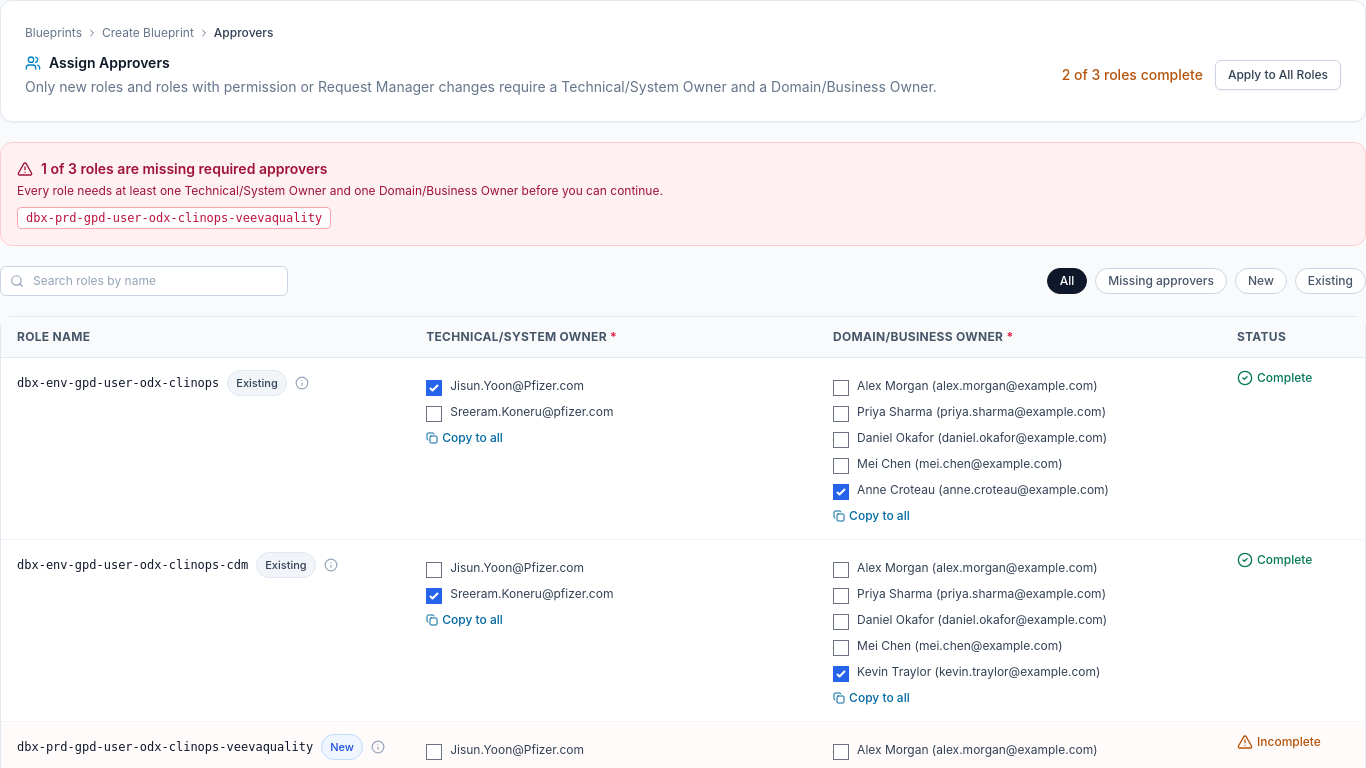
it: BlueprintApproversForm › excludes unchanged roles from prefill, validation, counters and bulk copies
The image size is (1366, 768).
Expected: the text "2 of 3 roles complete" is shown, [1062,65,1203,85]
Click the button named "Copy Technical/System Owners of dbx-env-gpd-user-odx-clinops to all roles": [464, 438] box [426,430,503,446]
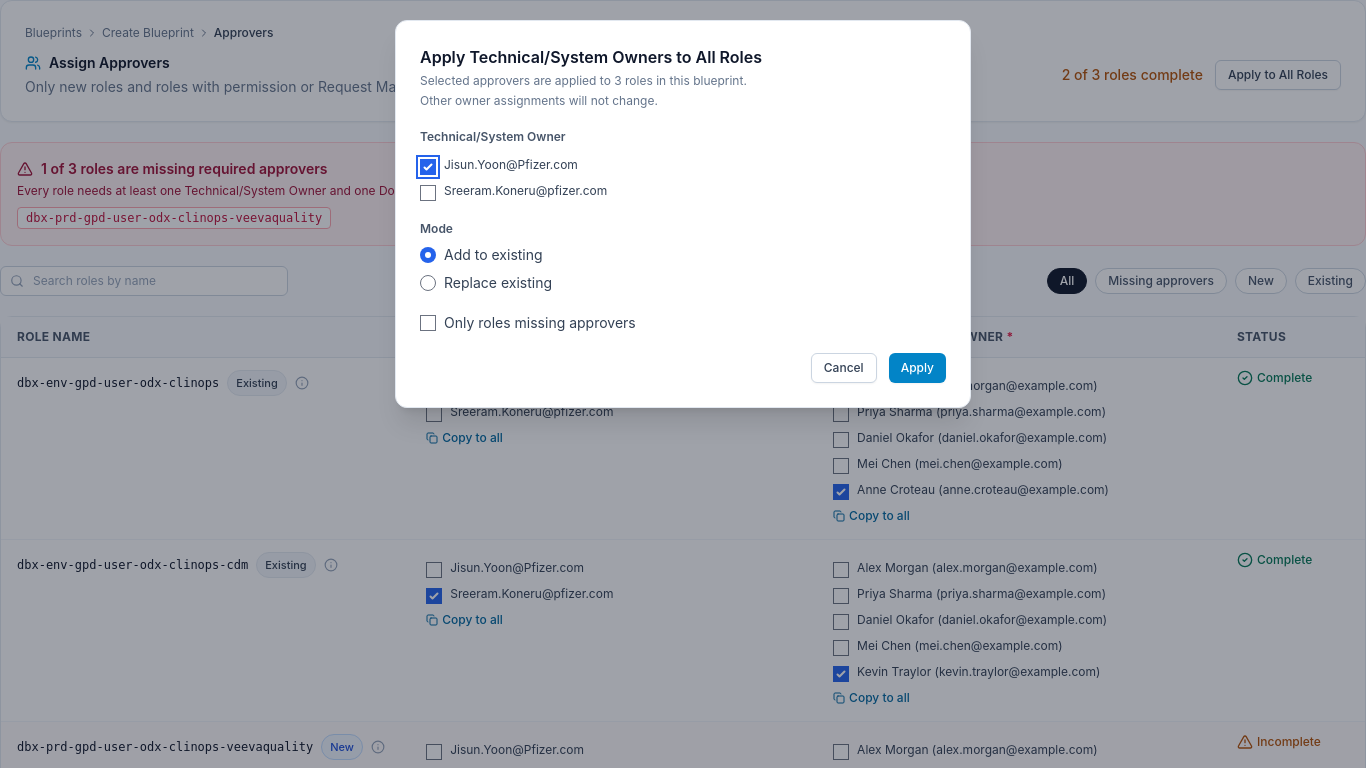
Click the button "Apply": [917, 368] box [889,353,946,383]
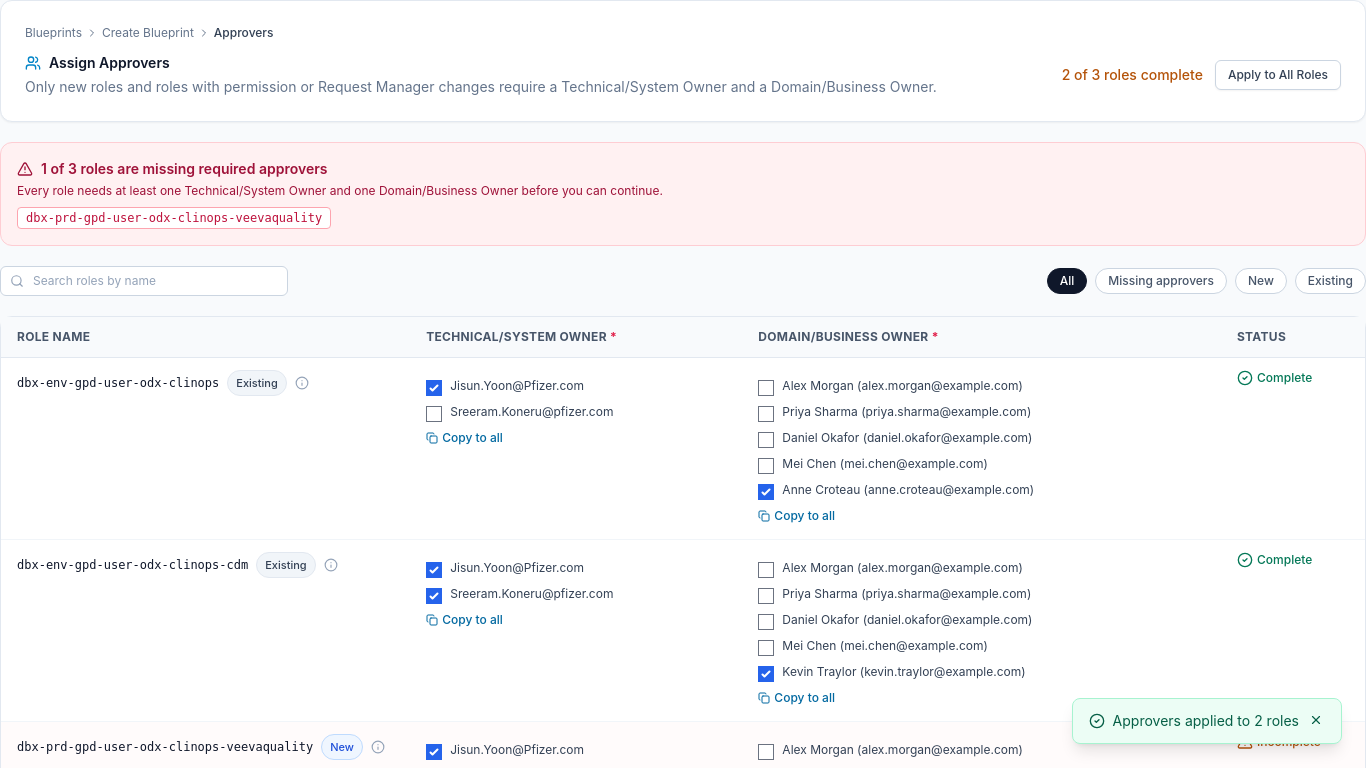
Expected: the text "Approvers applied to 2 roles" is shown, [1113,711,1299,731]
